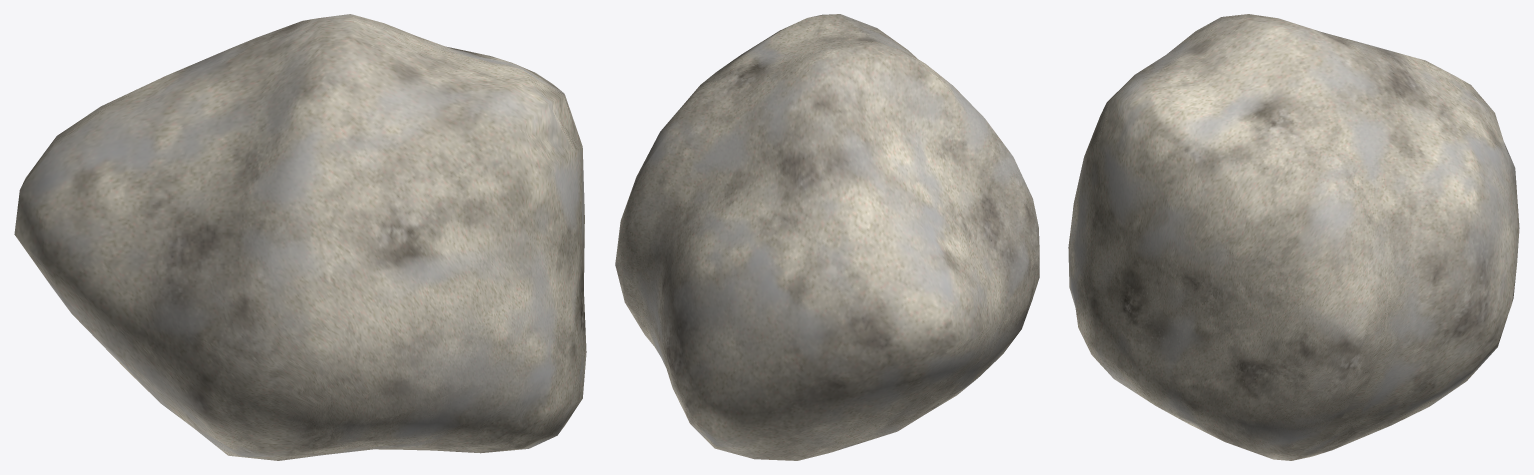
File: rock3.FBX
The picture shows the model from 3 angles, left to right: view 1: azimuth 30°, elevation 25°; view 2: azimuth 150°, elevation 25°; view 3: azimuth 270°, elevation 25°; orthographic projection. The views are drawn at different scales.
Visible parts, largest first — view 1: rock3; view 2: rock3; view 3: rock3.
Part boxes in pixels (x1=…): rock3: x1=14, y1=14, x2=586, y2=460; rock3: x1=615, y1=14, x2=1039, y2=460; rock3: x1=1068, y1=14, x2=1519, y2=460.
Size of the model in its own units: 78.45 by 74.83 by 78.43.
